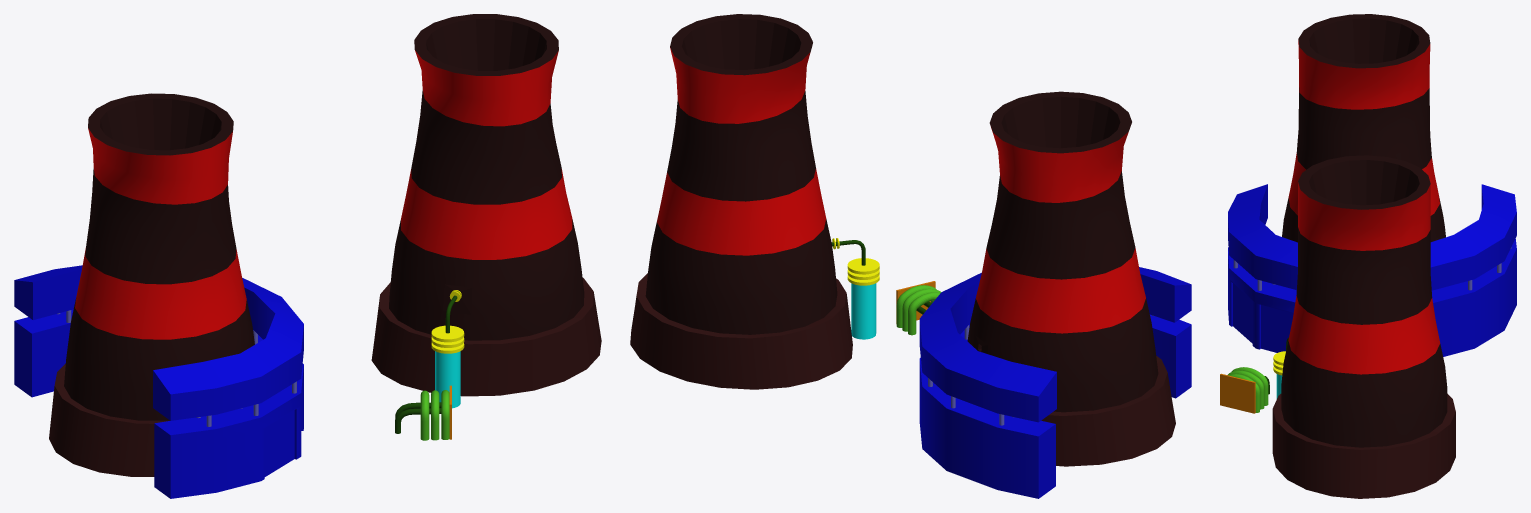
File: UnityExport.fbx
3 views of the same model, side by side, from view 1: azimuth 30°, elevation 25°; view 2: azimuth 150°, elevation 25°; view 3: azimuth 270°, elevation 25° (orthographic). The views are drawn at different scales.
Parts seen in each view (by area): view 1: group4_UV_1_pCylinder3; view 2: group4_UV_1_pCylinder3; view 3: group4_UV_1_pCylinder3.
Boxes of the visible parts, x1,y1,x2,y2 form: group4_UV_1_pCylinder3: (14, 14, 601, 498); group4_UV_1_pCylinder3: (630, 14, 1191, 498); group4_UV_1_pCylinder3: (1220, 14, 1516, 498).
Size of the model in its own units: 52.14 by 28.85 by 28.42.
